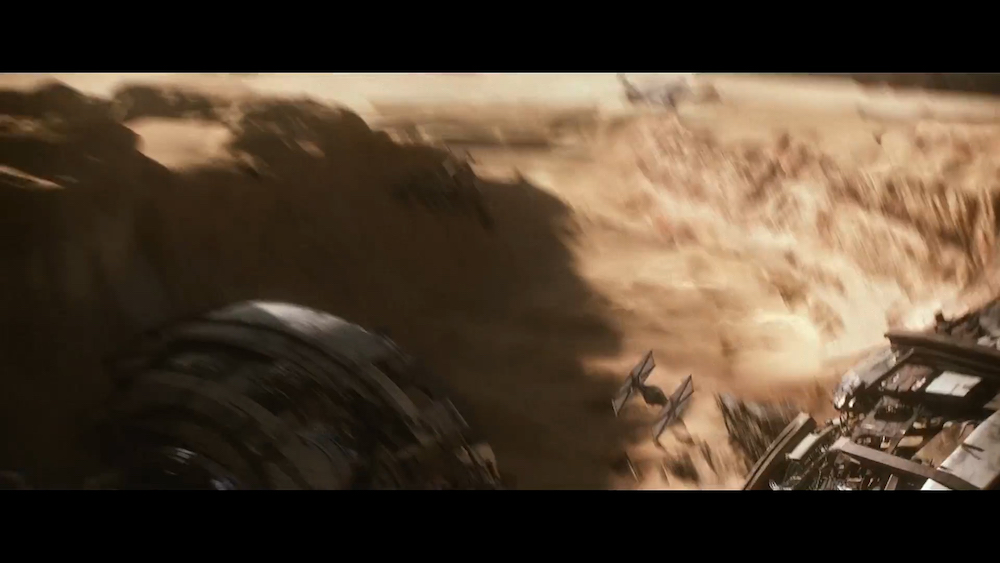Tie Fighter: (610, 348, 696, 444)
